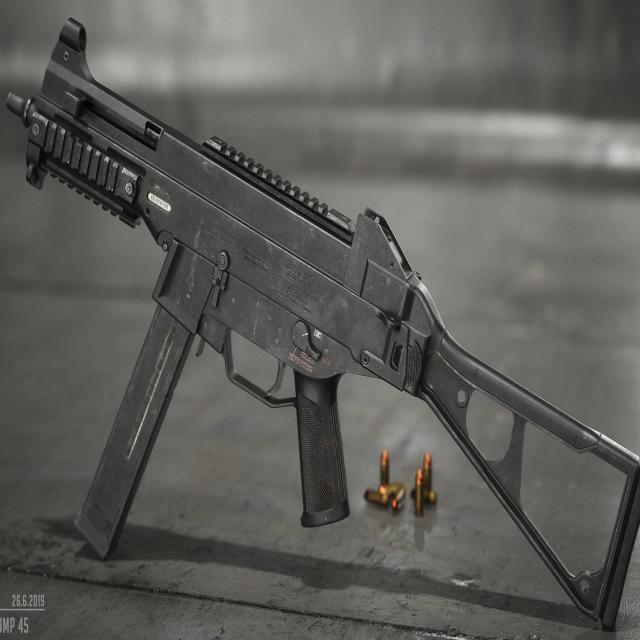SMG: (4, 19, 640, 635)
